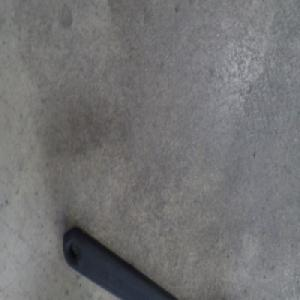AdjustableWrench: (61, 226, 182, 299)
